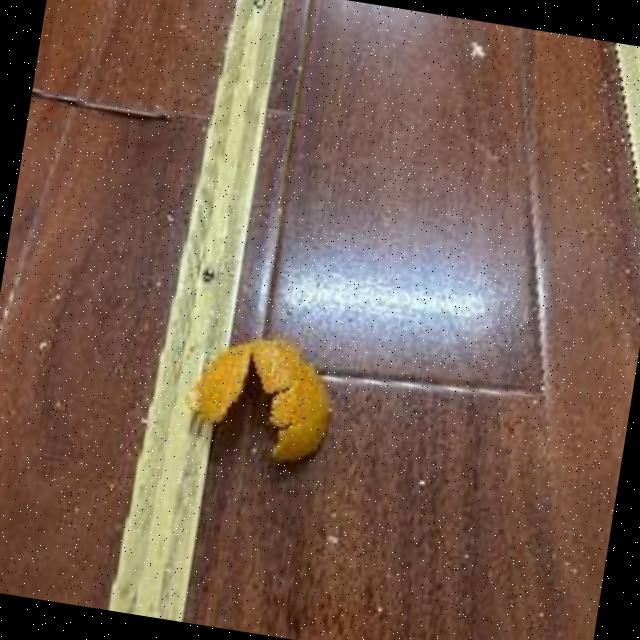orange-peel: (177, 320, 346, 473)
